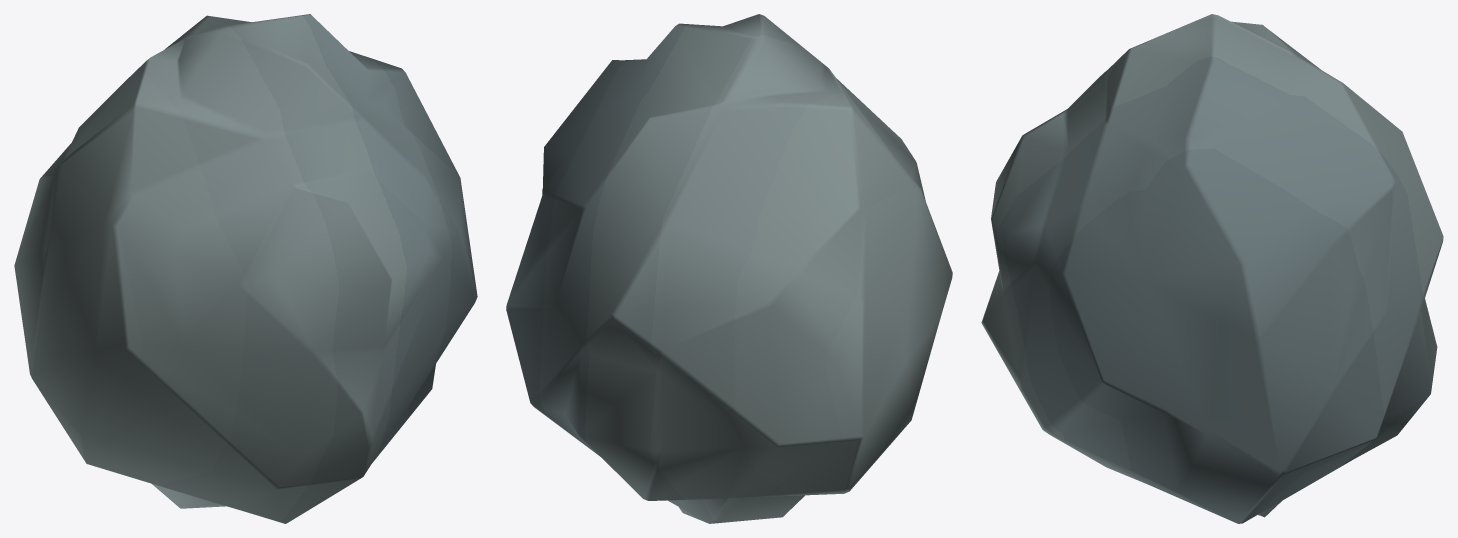
The model's file is model_rock_03.fbx.
The picture shows the model from 3 angles, left to right: view 1: azimuth 30°, elevation 25°; view 2: azimuth 150°, elevation 25°; view 3: azimuth 270°, elevation 25°; orthographic projection. The views are drawn at different scales.
Parts seen in each view (by area): view 1: rock_03_geo; view 2: rock_03_geo; view 3: rock_03_geo.
Part boxes in pixels (x1,y1,x2,y2): rock_03_geo: (14, 14, 477, 523); rock_03_geo: (506, 14, 952, 523); rock_03_geo: (981, 14, 1443, 523).
Bounding box in the file's own units: 25.15 × 31.71 × 27.81.
